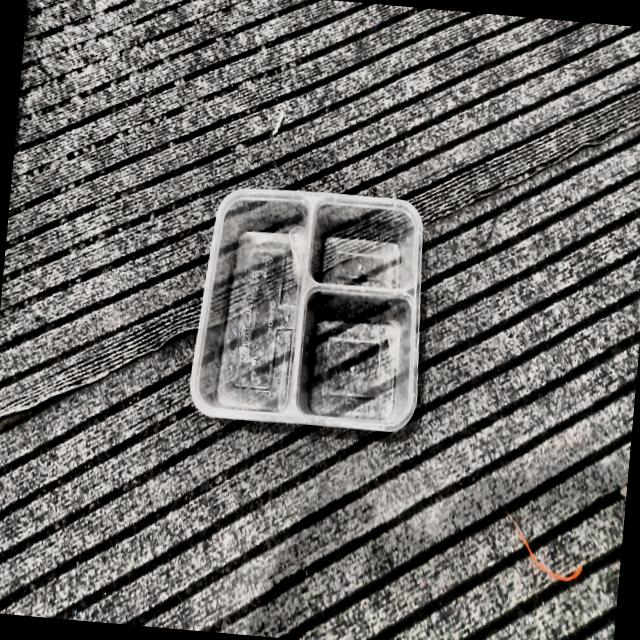plastic container: (190, 188, 422, 431)
